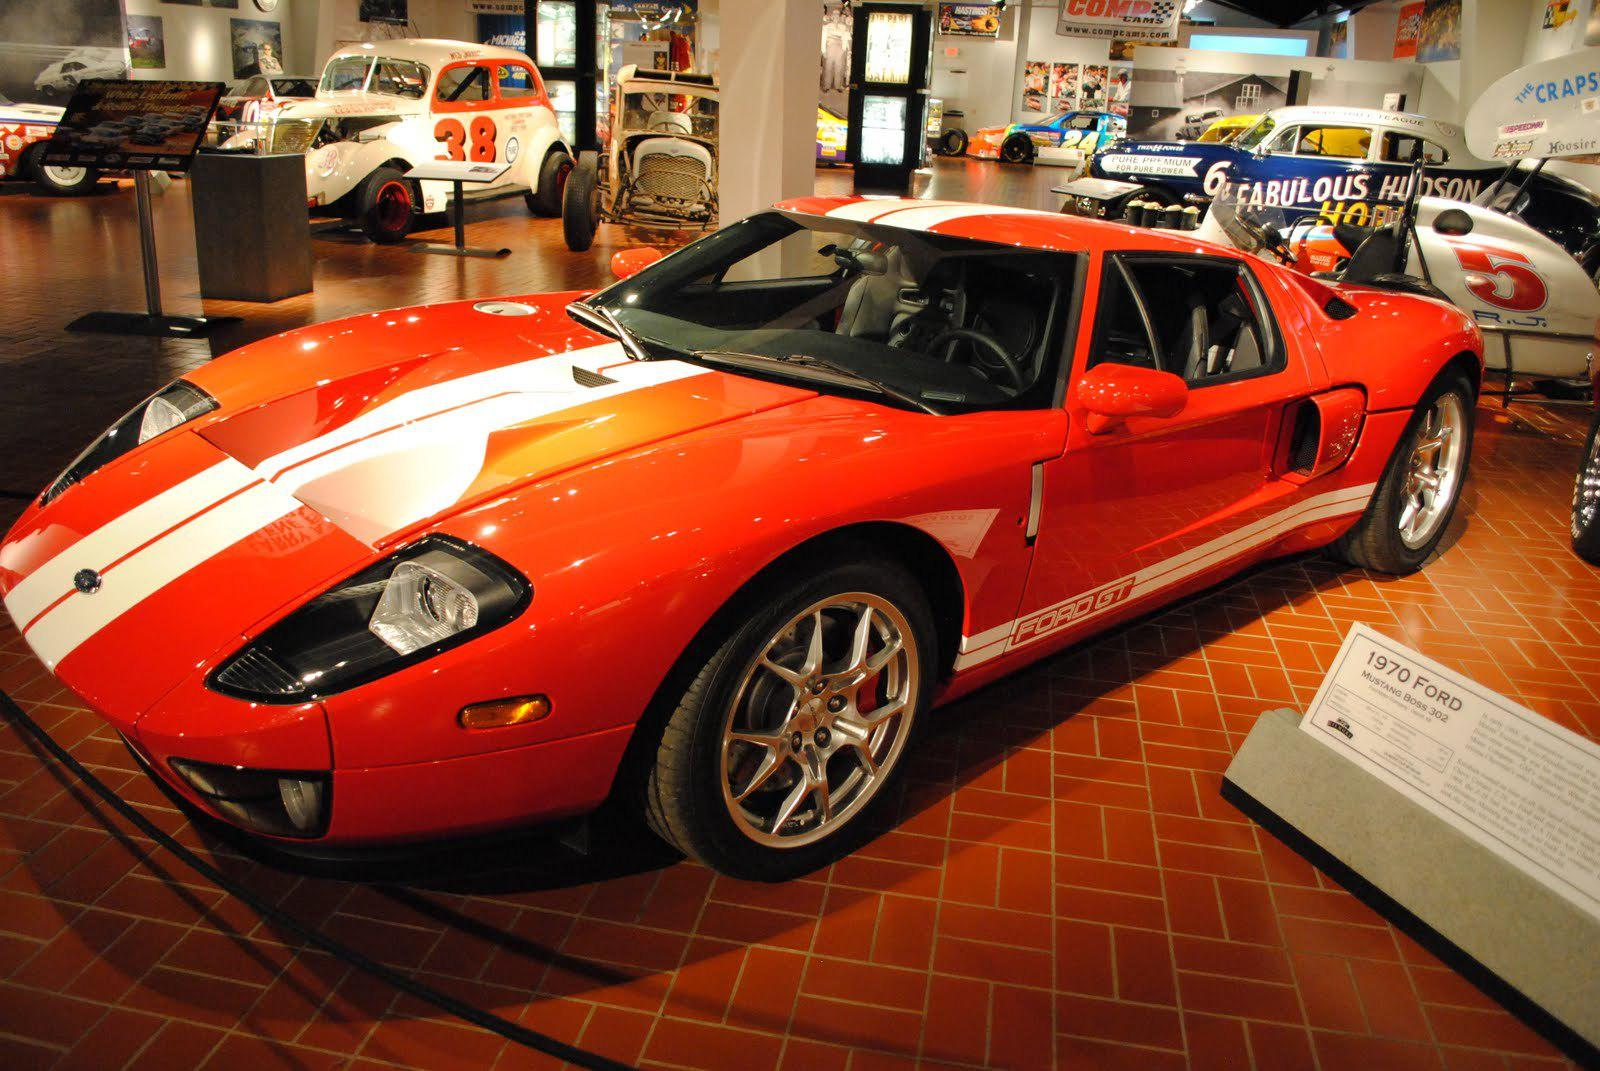Car: (1, 121, 1555, 904)
